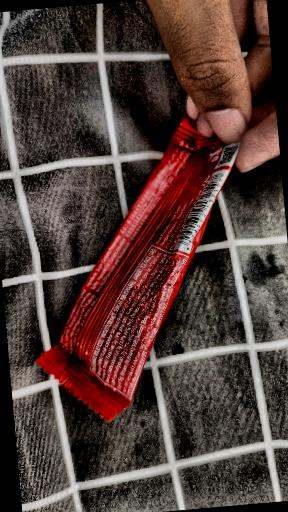chocho: (29, 77, 272, 455)
